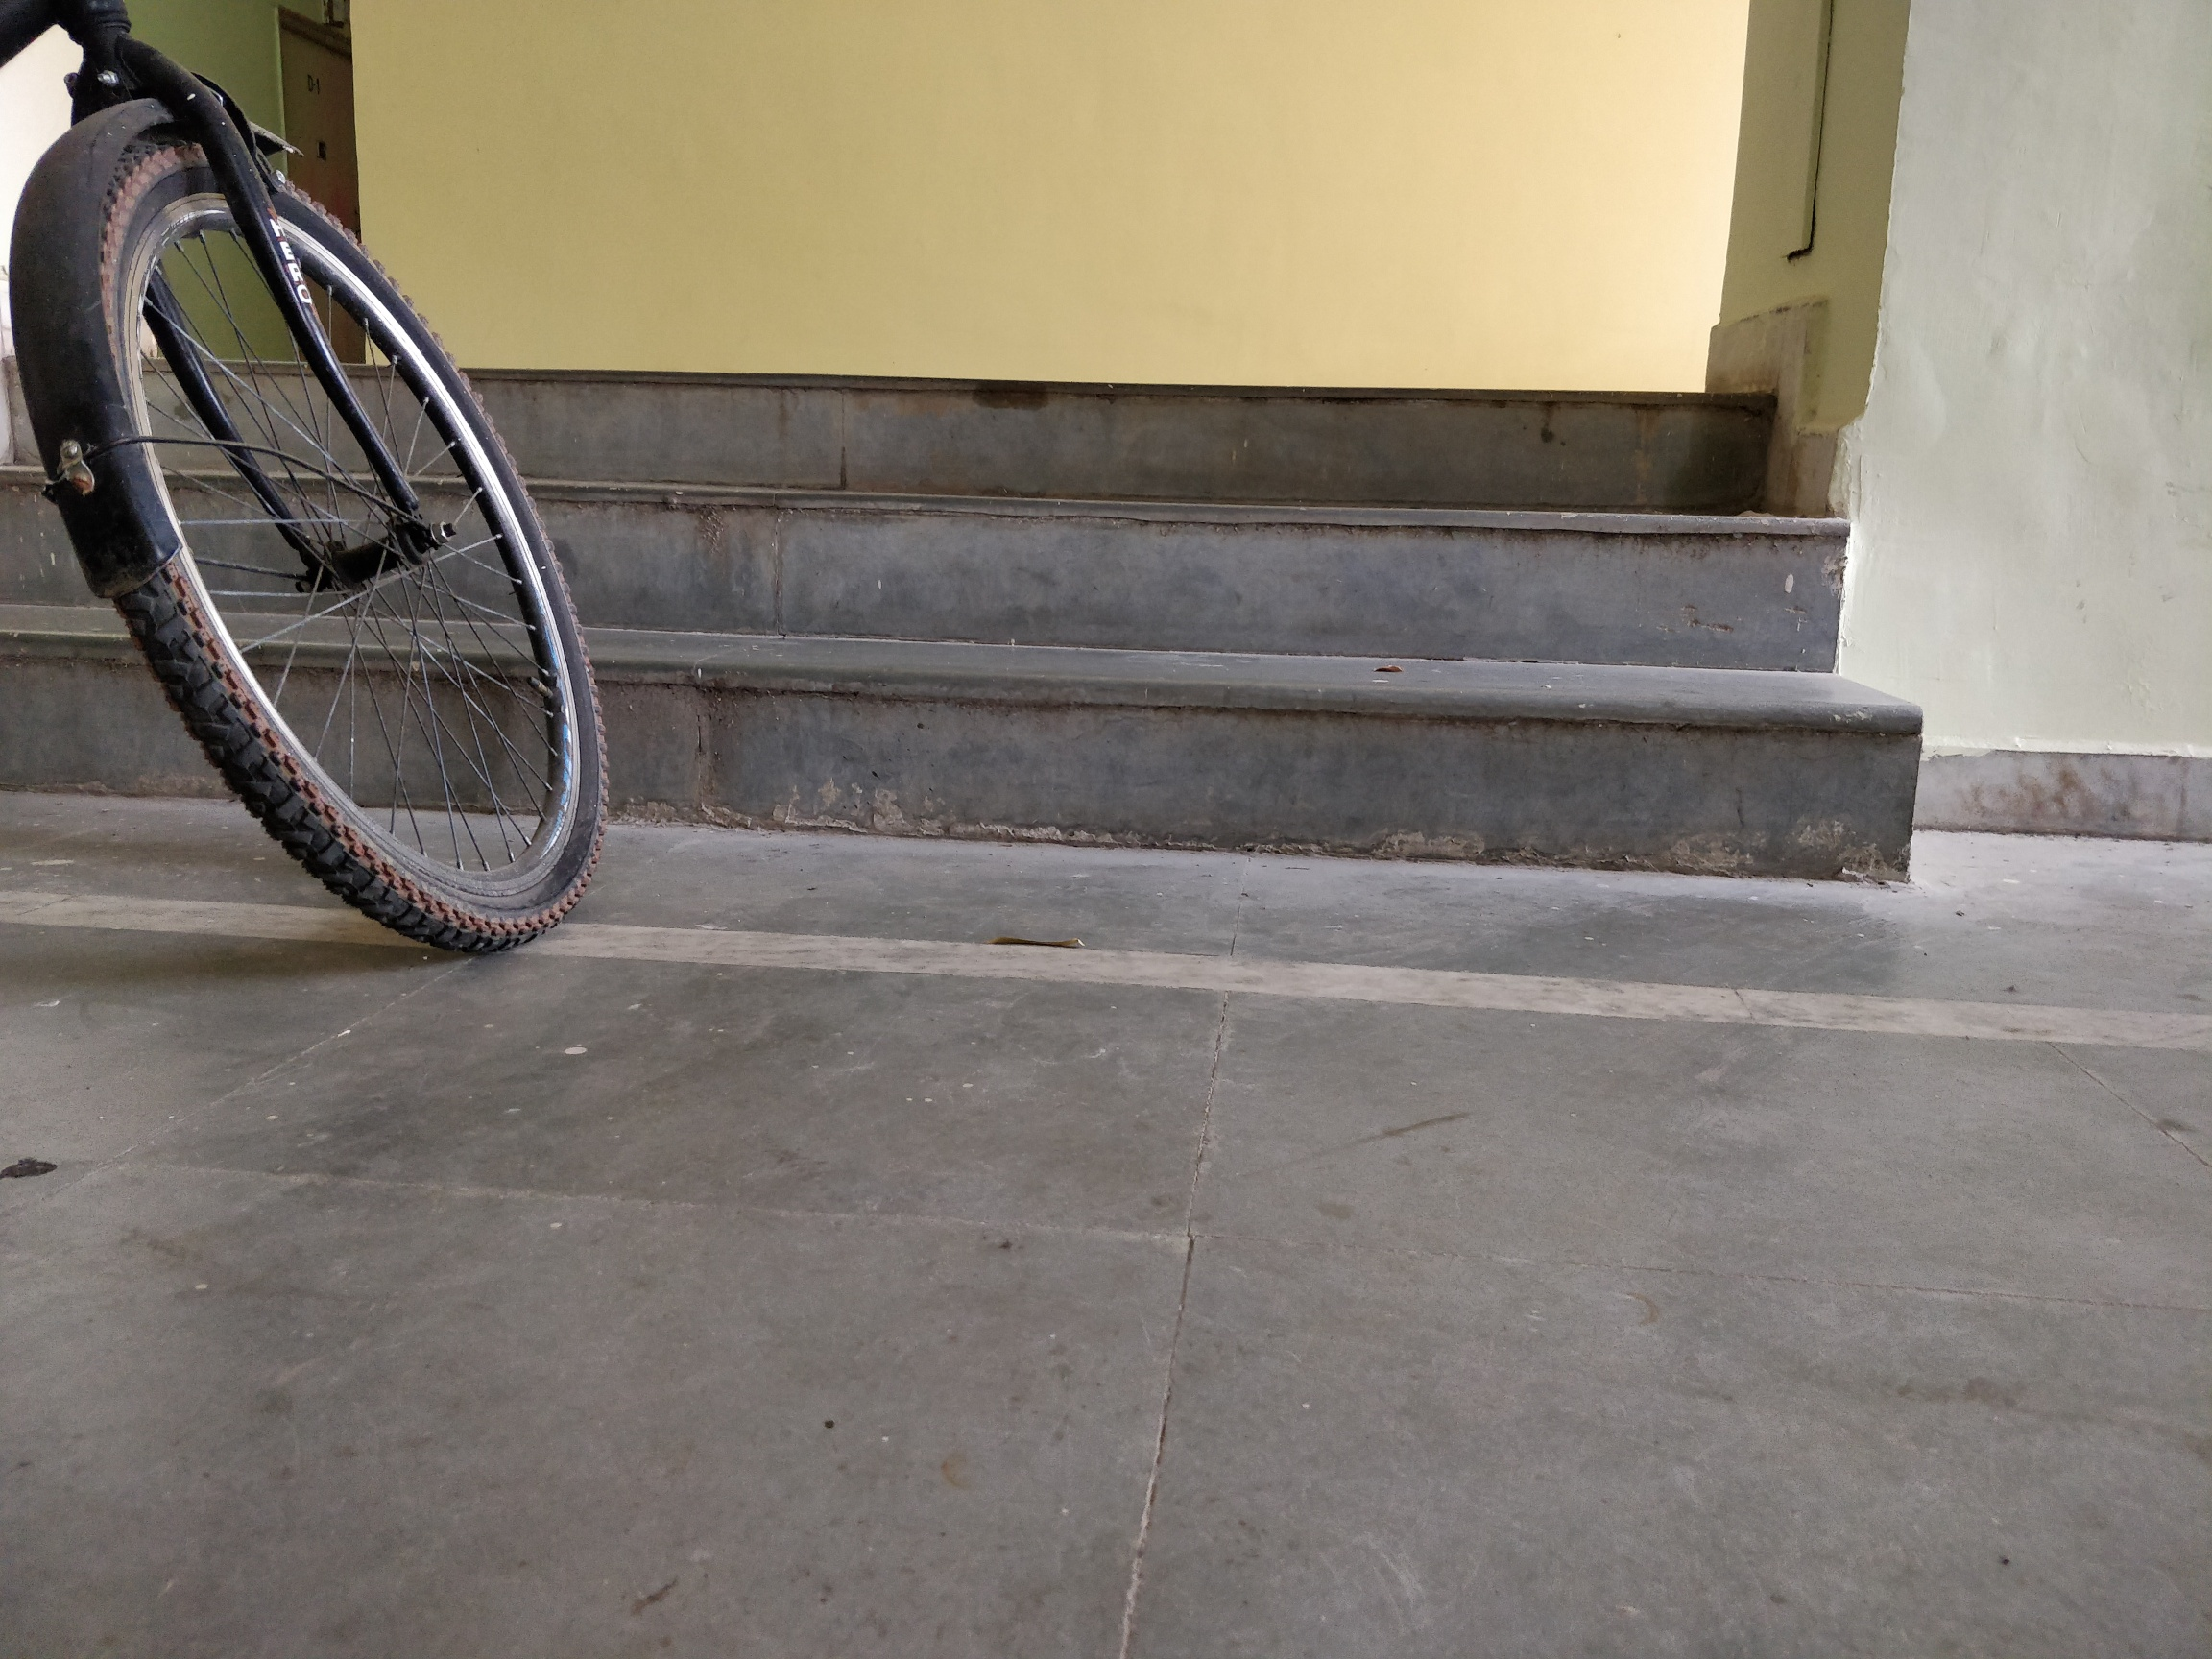stairs_up: (2, 373, 1824, 889)
